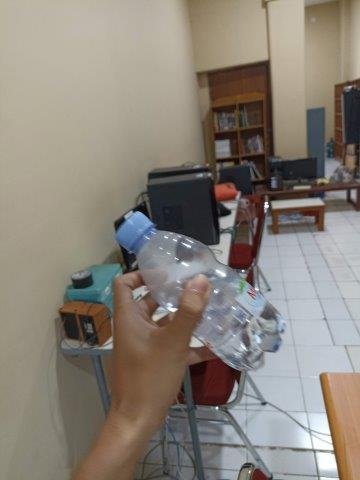botolplastik: (116, 212, 287, 371)
